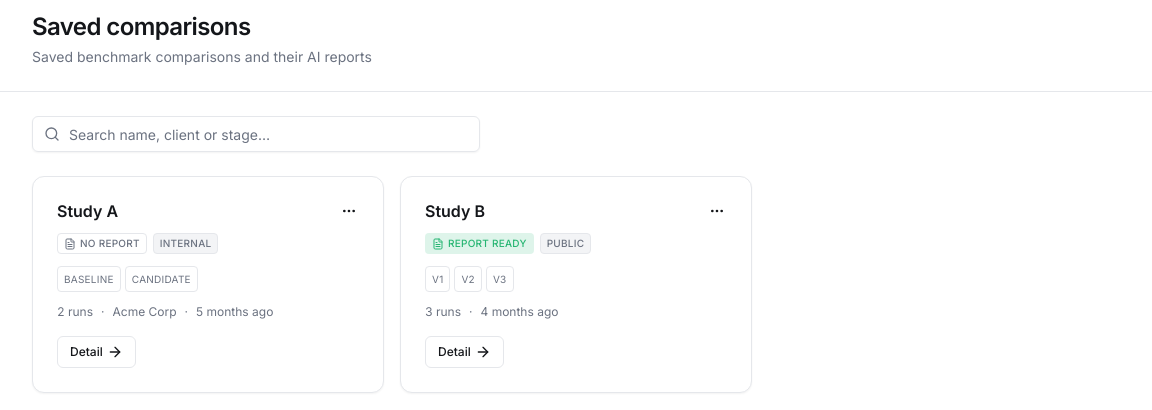
Scenario: SavedComparesListPage › filters by name, client, and stage label
Expected: the link "Study A" is shown, [57,201,118,221]
 by name
Type "Study B" into the field with placeholder "Search name, client or stage…" at (256, 134), box [32,116,480,152]
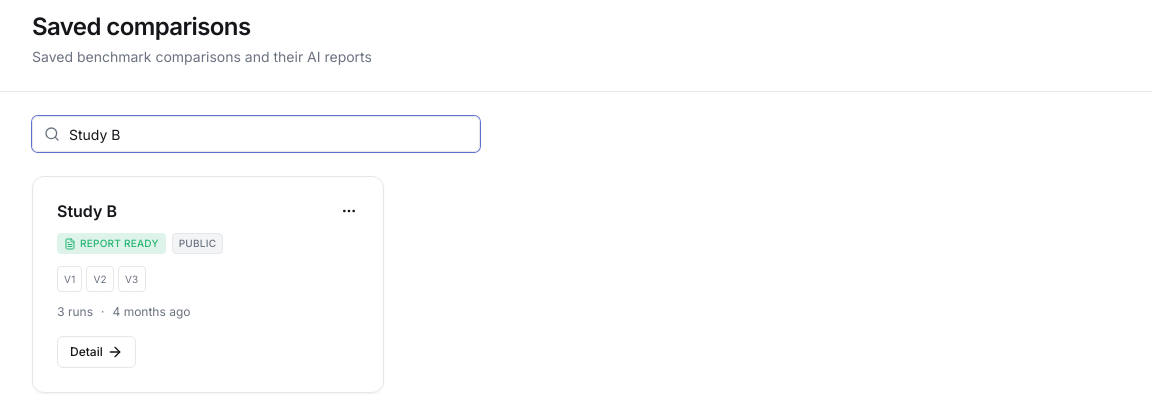
Expected: the link "Study B" is shown, [57,201,117,221]
Expected: the link "Study A" is gone
by stage label
Replace the text in the field with placeholder "Search name, client or stage…" with "baseline" at (256, 134), box [32,116,480,152]
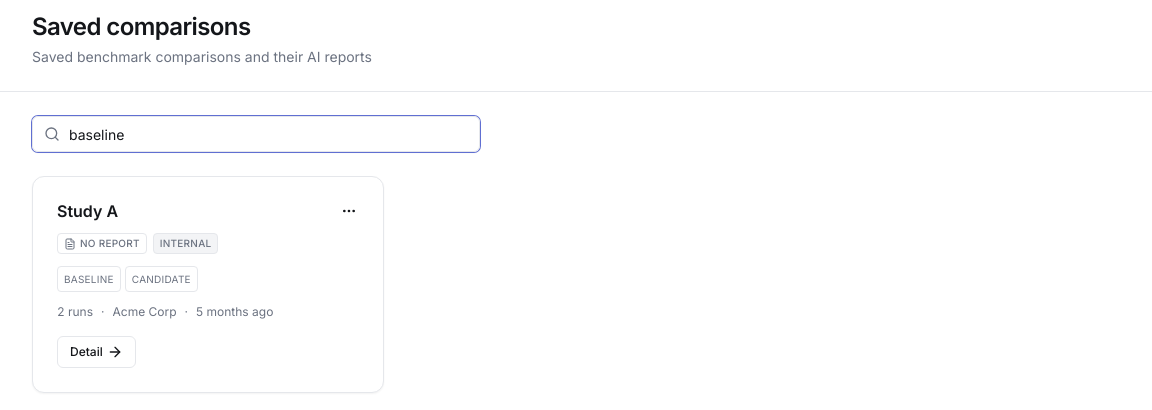
Expected: the link "Study B" is not shown
Expected: the link "Study A" is shown, [57,201,118,221]
by client name
Replace the text in the field with placeholder "Search name, client or stage…" with "acme" at (256, 134), box [32,116,480,152]
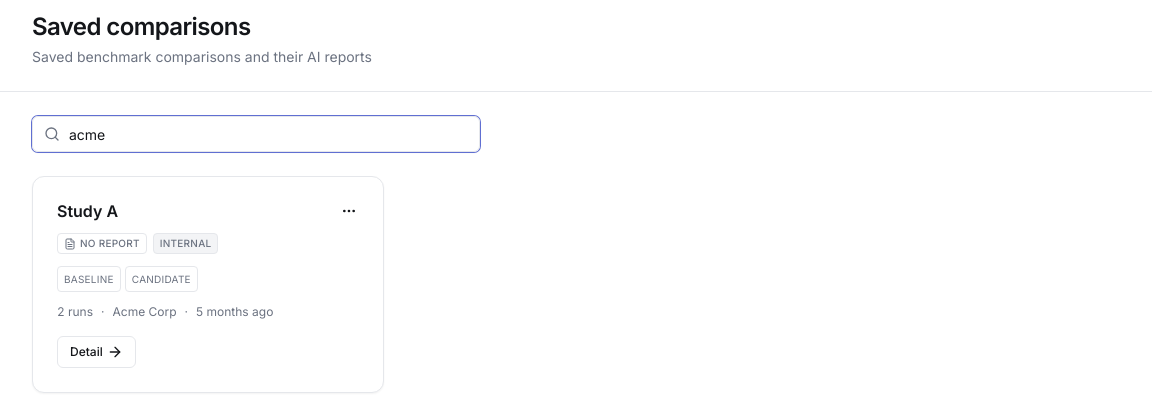
Expected: the link "Study B" is not shown
Expected: the link "Study A" is shown, [57,201,118,221]
no matches → empty state
Replace the text in the field with placeholder "Search name, client or stage…" with "zzz-nope" at (256, 134), box [32,116,480,152]
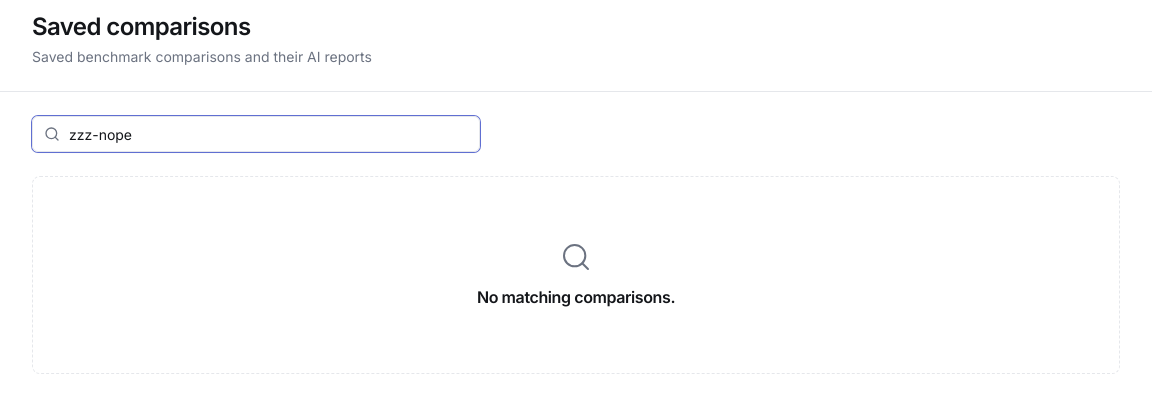
Expected: the link "Study B" is not shown
Expected: the link "Study A" is gone
